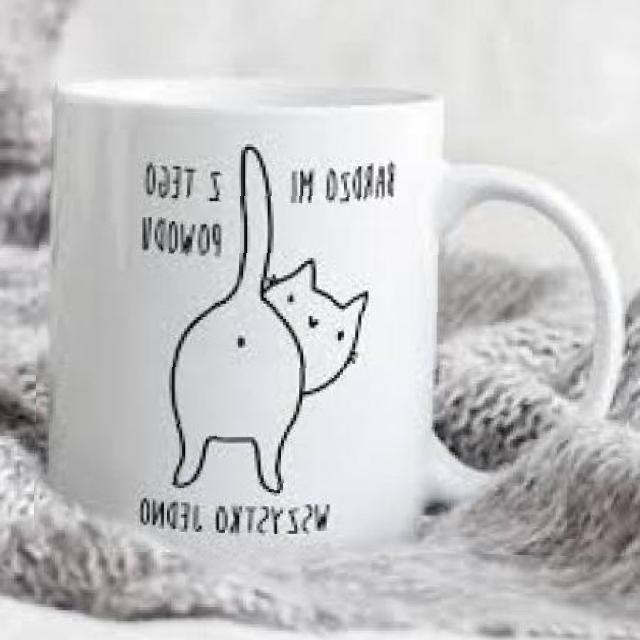cup: (33, 65, 633, 557)
